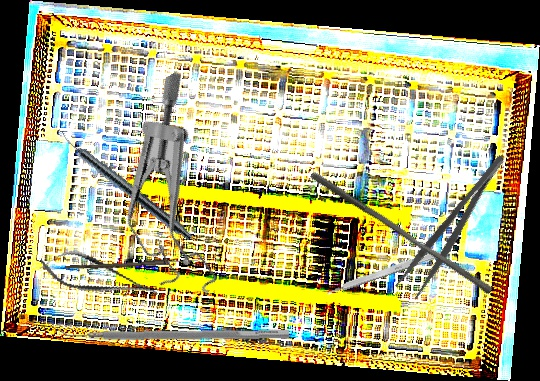Dressing Forceps: (392, 150, 520, 303)
Handpiece: (55, 128, 196, 243)
Micro Scissor: (35, 241, 163, 313)
Pusher: (305, 171, 497, 295)
Scalpel Handle: (325, 244, 452, 297)
Spatula Surgical: (56, 318, 290, 344)
Speculum: (71, 70, 282, 312)
Surgical Spoon: (64, 256, 204, 272)
